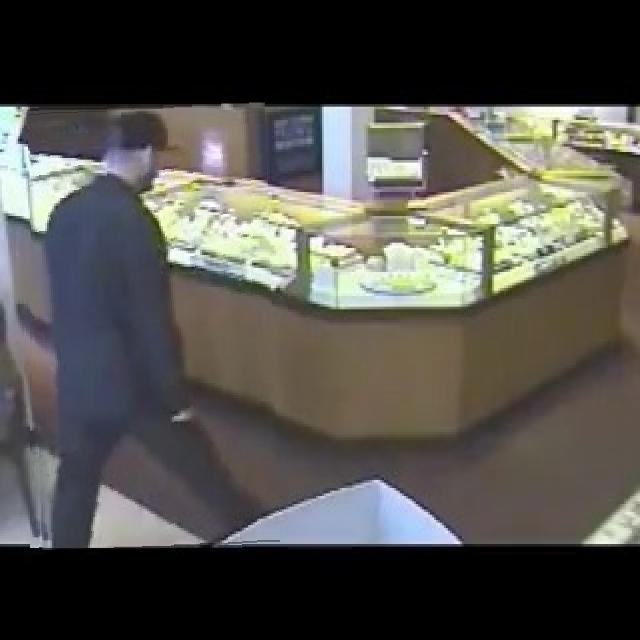Normal: (30, 104, 276, 548)
